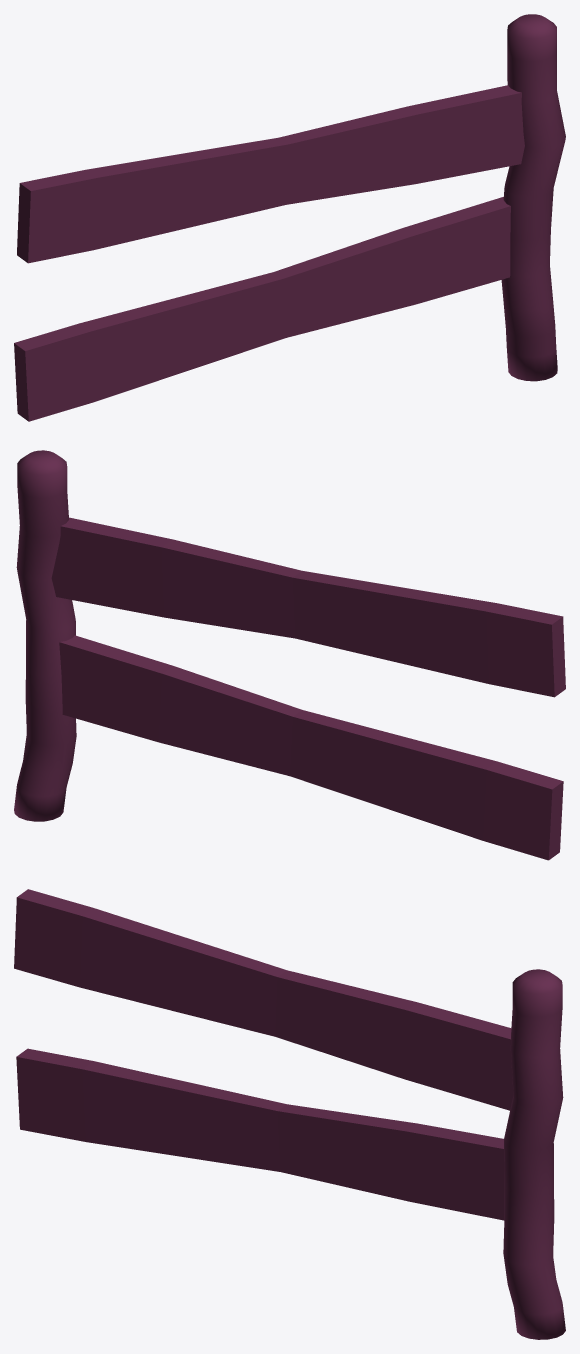
File: Fance.fbx
3 renders of one model, top to bottom at view 1: azimuth 30°, elevation 25°; view 2: azimuth 150°, elevation 25°; view 3: azimuth 330°, elevation 25°, orthographic.
Parts seen in each view (by area): view 1: Cube.001; view 2: Cube.001; view 3: Cube.001.
Part boxes in pixels (x1=…): Cube.001: x1=14, y1=14, x2=565, y2=421; Cube.001: x1=14, y1=450, x2=565, y2=860; Cube.001: x1=14, y1=889, x2=565, y2=1339.
Bounding box in the file's own units: 320 × 200 × 31.28.
